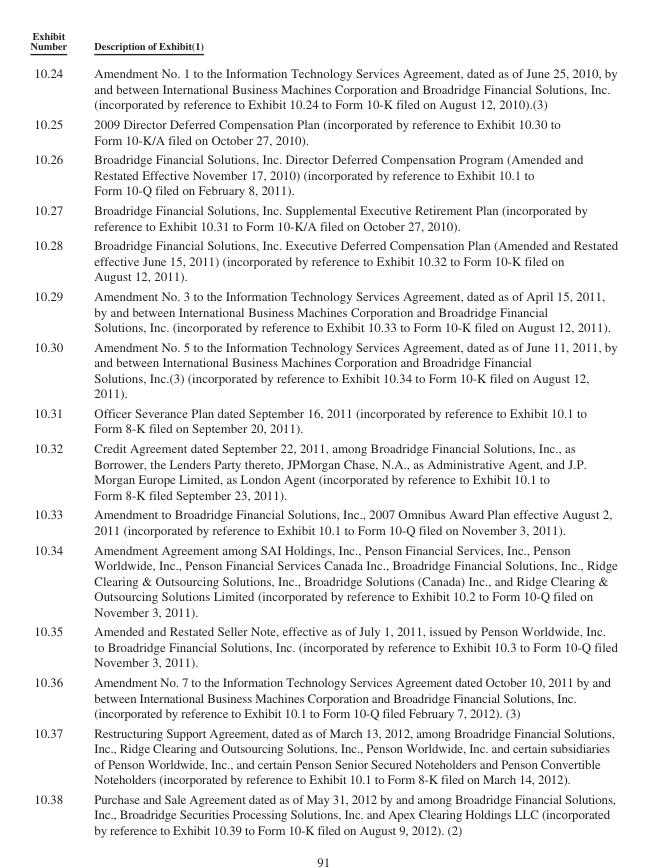table: (29, 29, 617, 836)
table column: (79, 29, 617, 836), (29, 29, 79, 836)
table column header: (29, 29, 617, 58)
table row: (29, 539, 617, 621), (29, 437, 617, 504), (29, 336, 617, 402), (29, 722, 617, 788), (29, 58, 617, 113), (29, 285, 617, 336), (29, 671, 617, 722), (29, 149, 617, 199), (29, 235, 617, 285), (29, 621, 617, 671), (29, 788, 617, 836), (29, 113, 617, 149), (29, 199, 617, 235), (29, 402, 617, 437), (29, 504, 617, 539), (29, 29, 617, 58)
